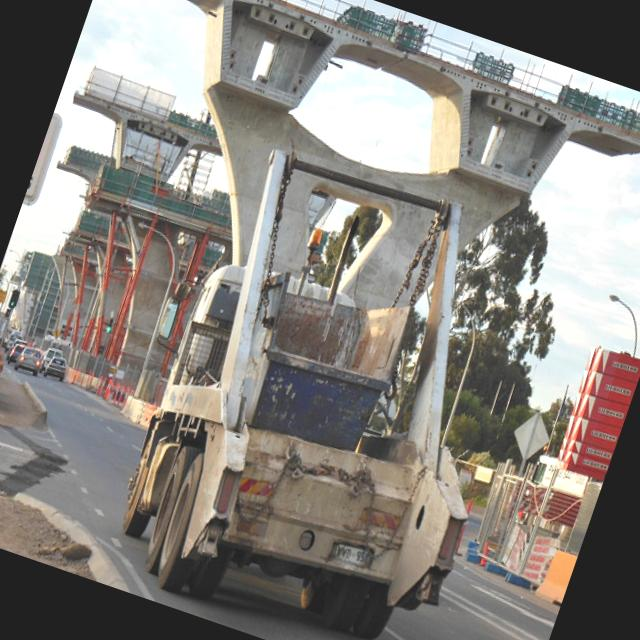Vehicle: (94, 135, 564, 640), (12, 346, 44, 378), (40, 352, 70, 384), (37, 345, 65, 378), (5, 340, 27, 364), (7, 343, 24, 368)
